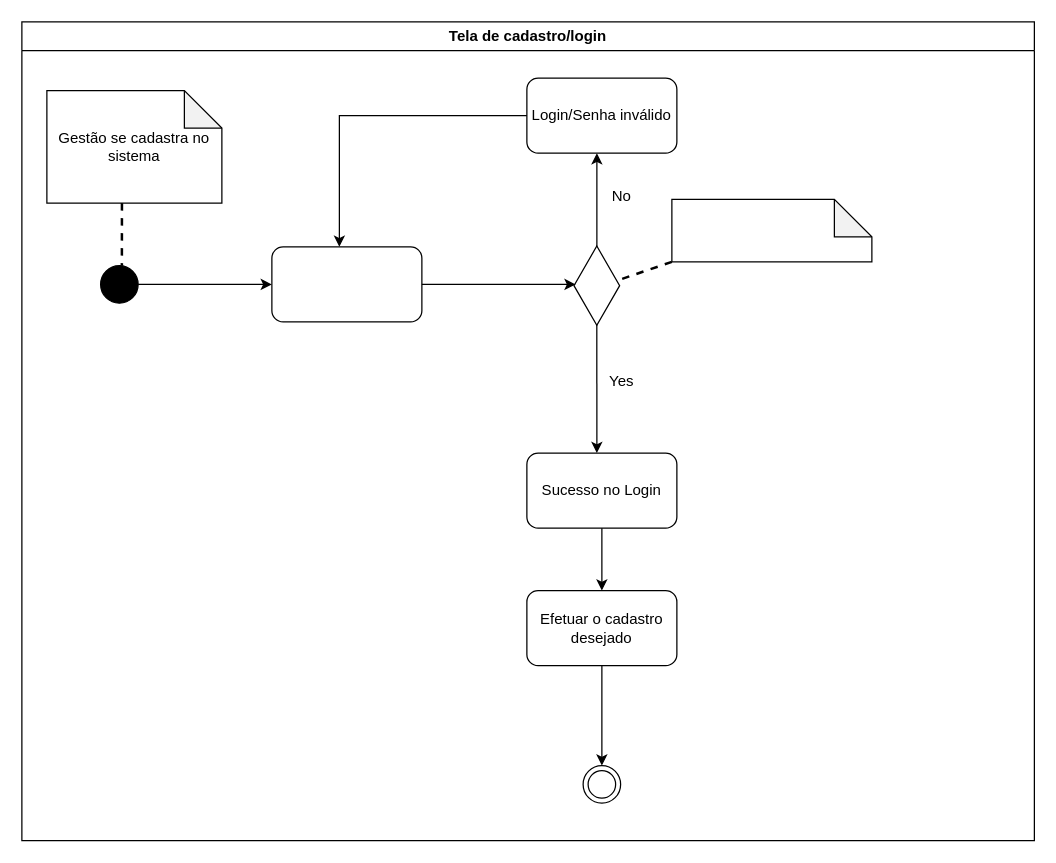
Some shapes in this 1056 by 863 pixel diagram are drawn without their labels. Here are the shapes that lost their labels. From the top down, the centre of each, then its label:
At (771,230): "Login/Senha corretos?".
At (346,284): "Gestão faz o login no sistema".
